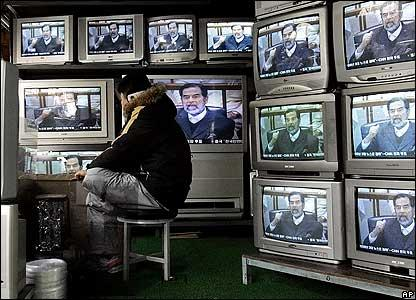person: (75, 73, 194, 275)
